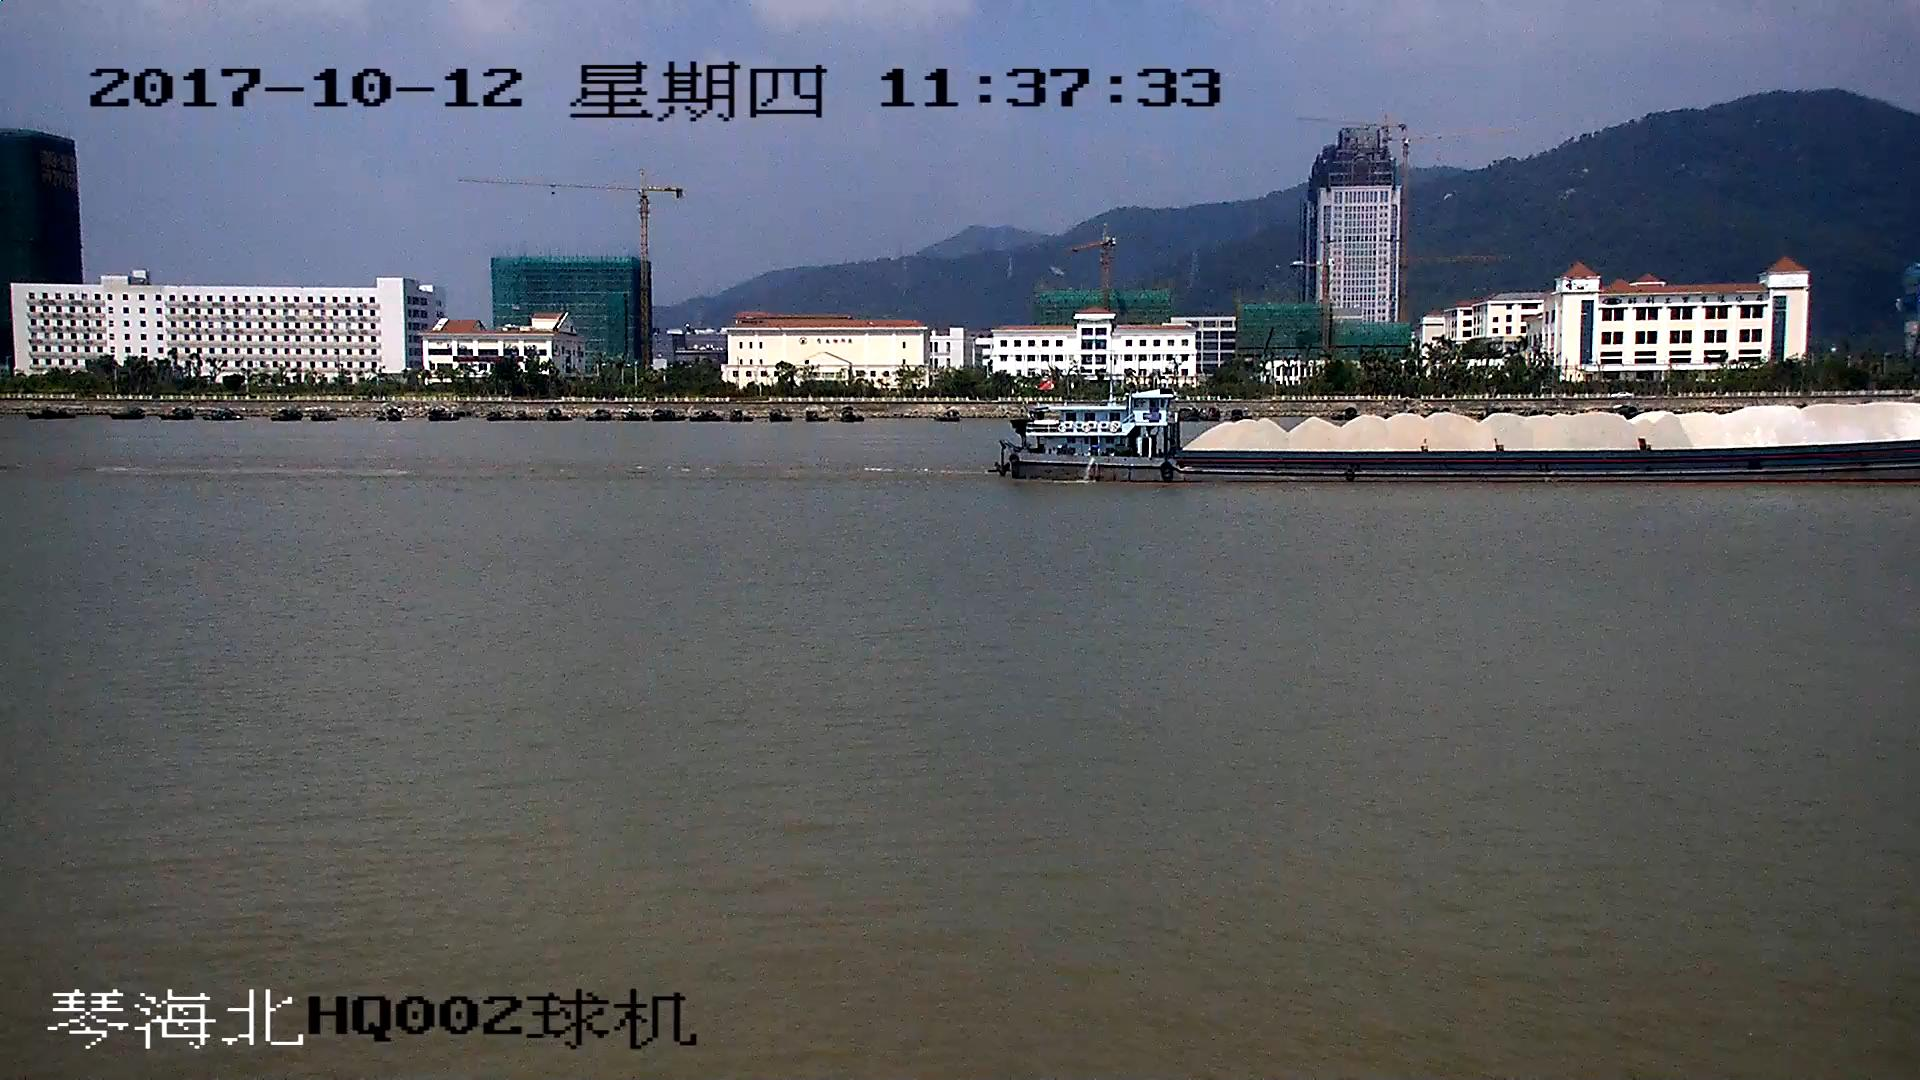ore carrier: (1001, 391, 1920, 482)
